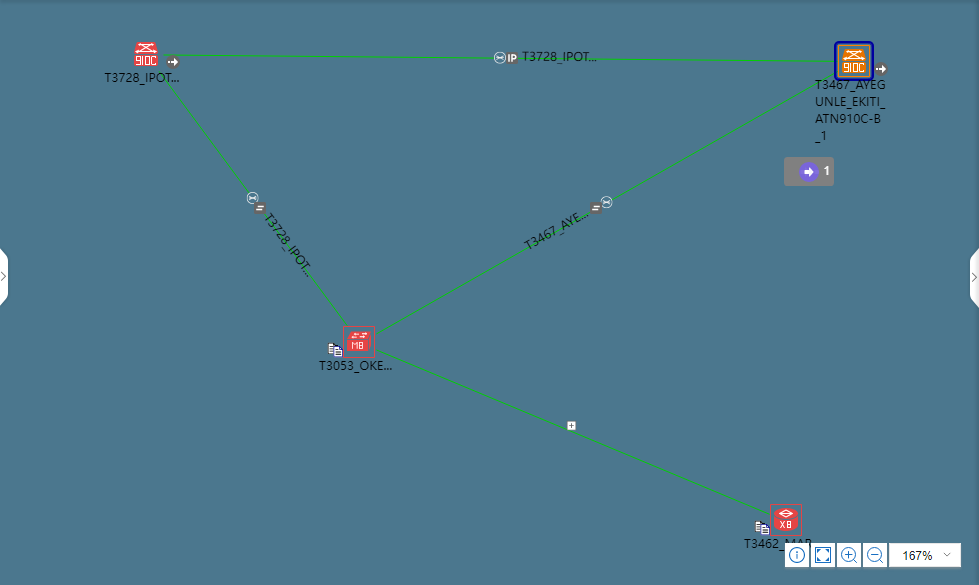ATN_Orange: (841, 45, 870, 74)
ATN_Red: (132, 45, 161, 66)
Link_Green: (376, 75, 825, 334), (376, 345, 772, 520), (156, 69, 344, 323), (162, 51, 834, 68)
Router_Red: (768, 504, 803, 539), (346, 326, 375, 361)
Switch_Red: (346, 326, 375, 361)
